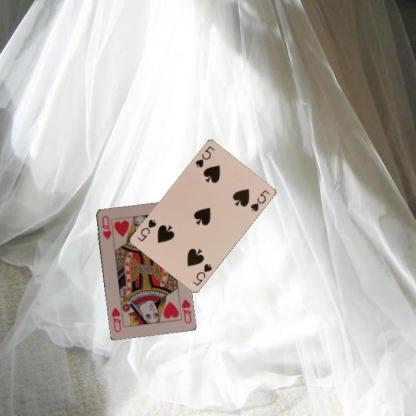5s: (192, 142, 216, 168), (190, 260, 213, 286)
Qh: (179, 296, 193, 325), (99, 213, 112, 241)
